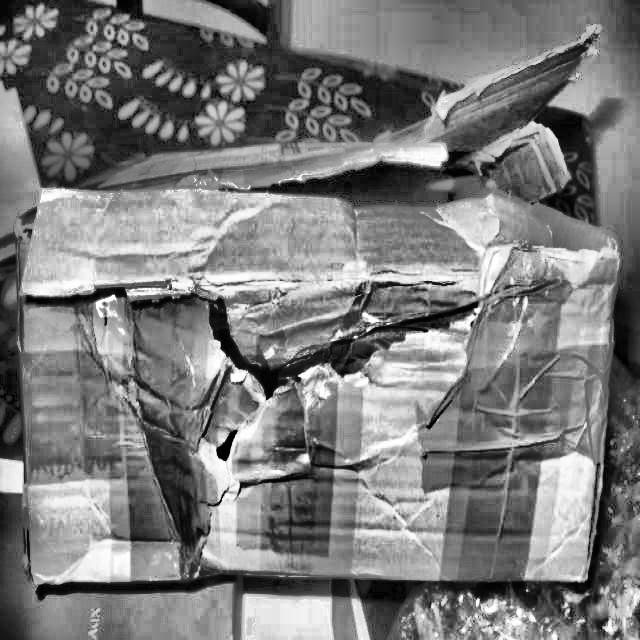box: (8, 14, 627, 598)
hole: (183, 292, 295, 466)
